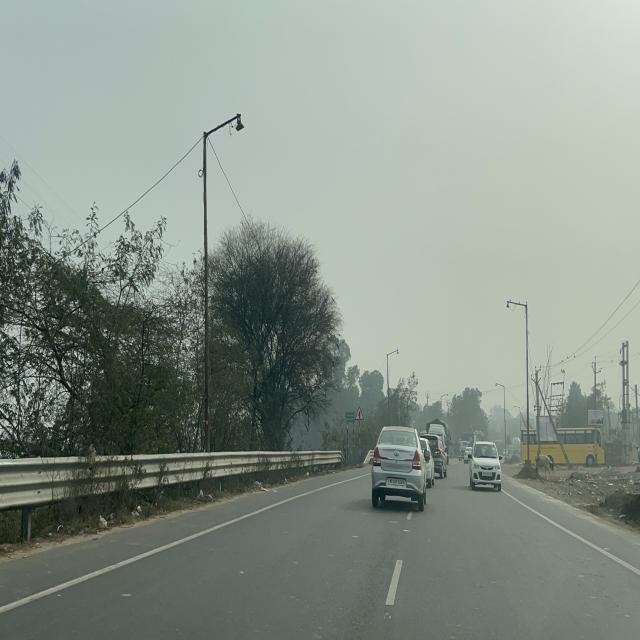SIDE_ROAD_LEFT: (354, 405, 364, 420)
